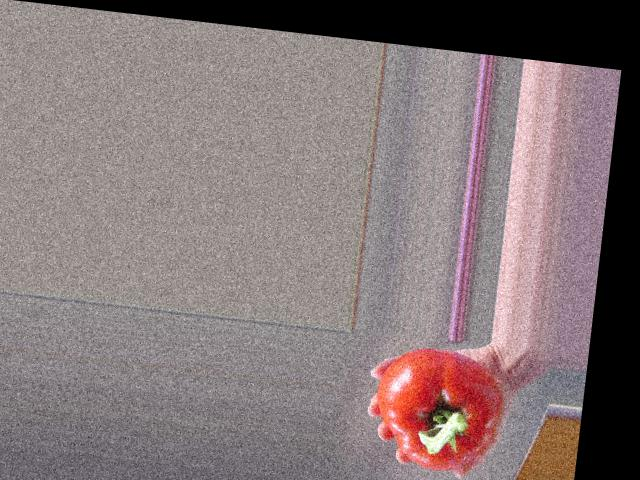tomato: (369, 342, 507, 477)
